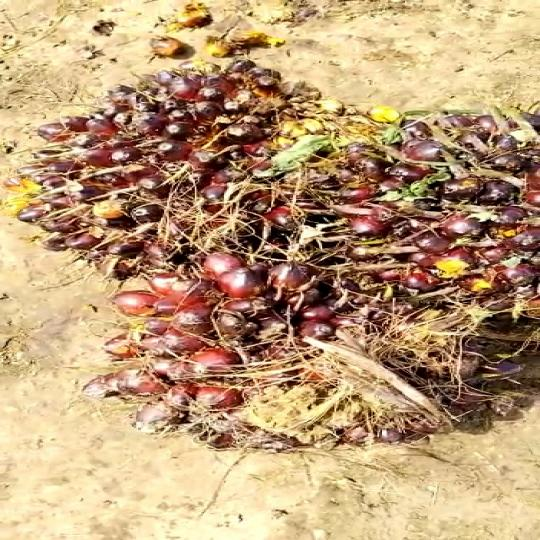kurang masak: (86, 199, 540, 451), (170, 100, 540, 260), (28, 58, 330, 239)
